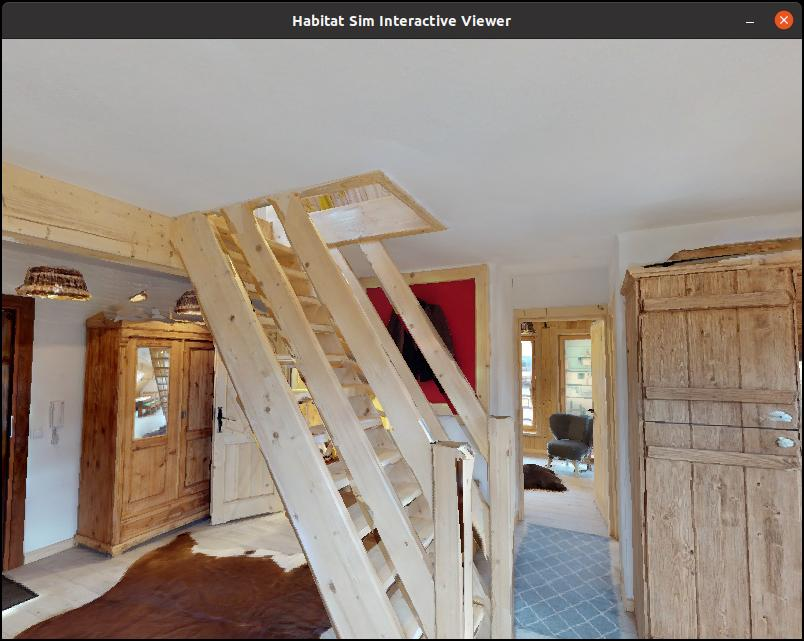door-frame: (503, 303, 632, 532)
stairs: (215, 183, 540, 641)
